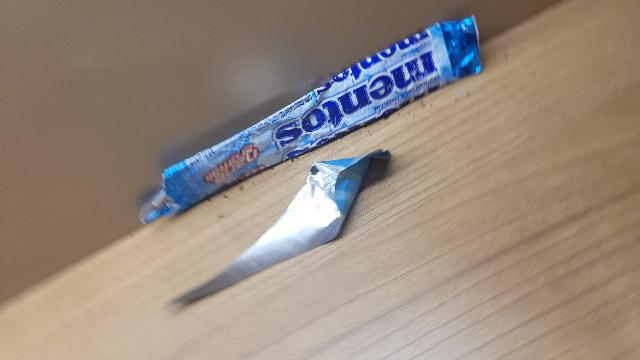Plastik: (133, 15, 487, 233), (160, 145, 398, 312)
